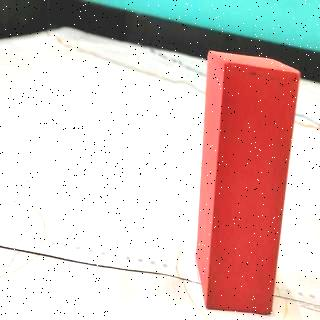redbox: (196, 48, 300, 316)
